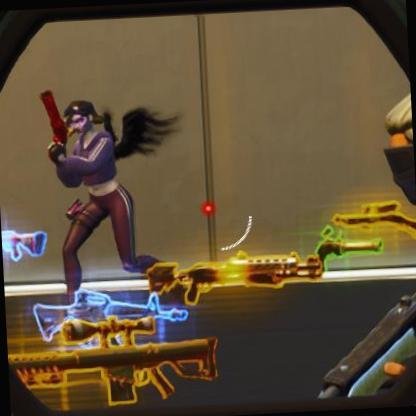person: (40, 93, 158, 297)
